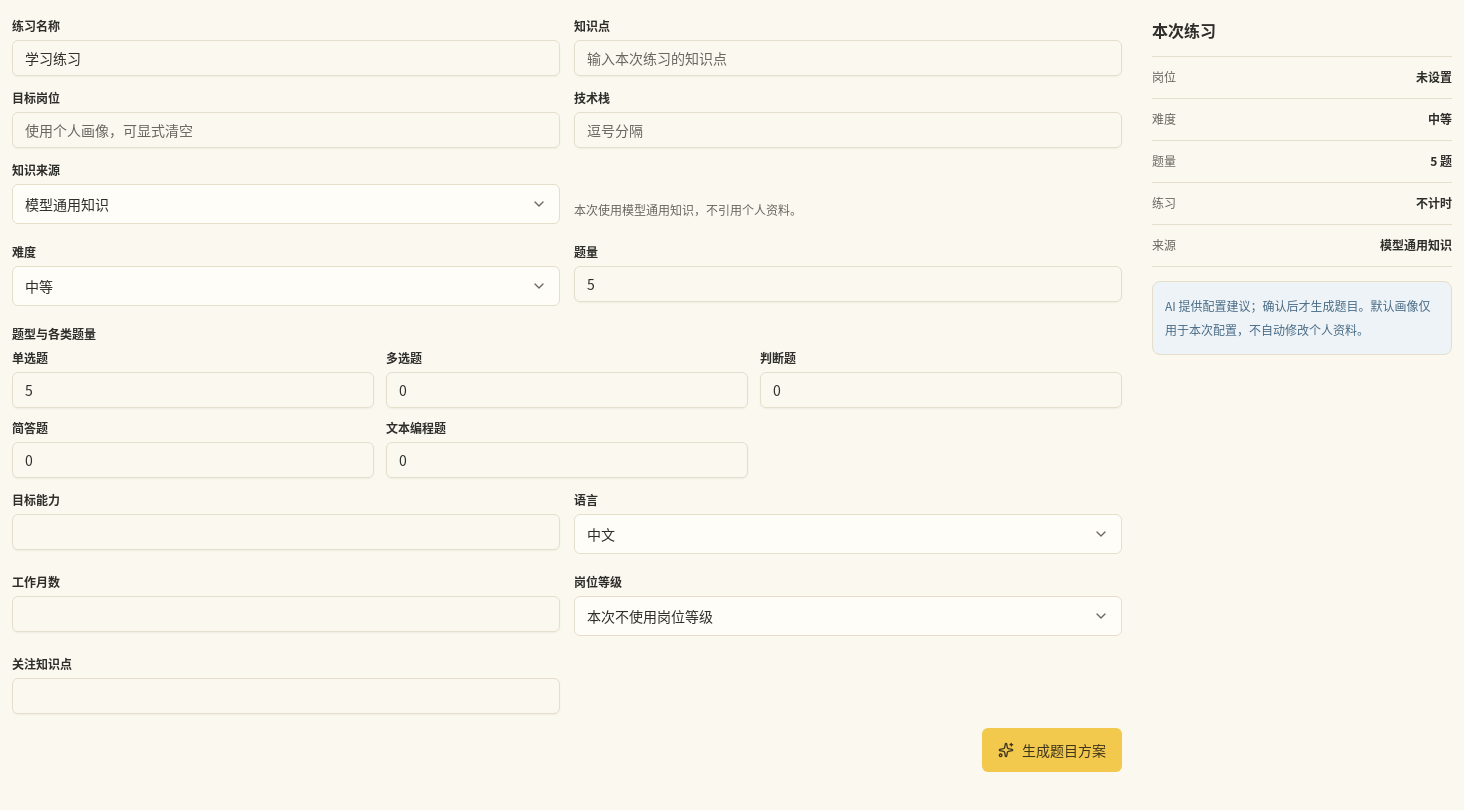
Test case: 不把题型数量不匹配的配置交给模型
Replace the text in the number field named "题量" with "4" at (848, 284), box x1=574 y1=266 x2=1122 y2=302
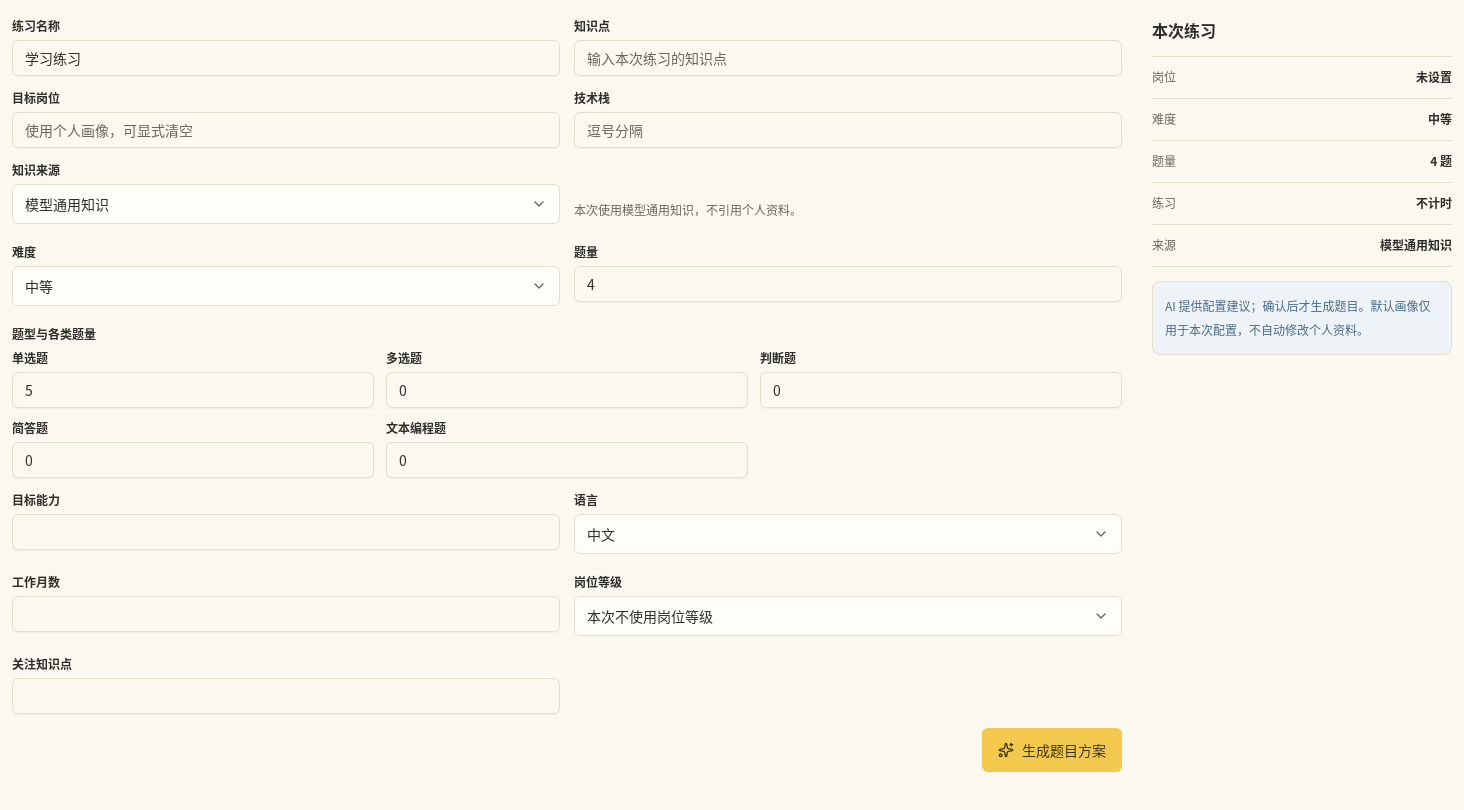
Click the button "生成题目方案".
click(1052, 750)  # box x1=982 y1=728 x2=1122 y2=772
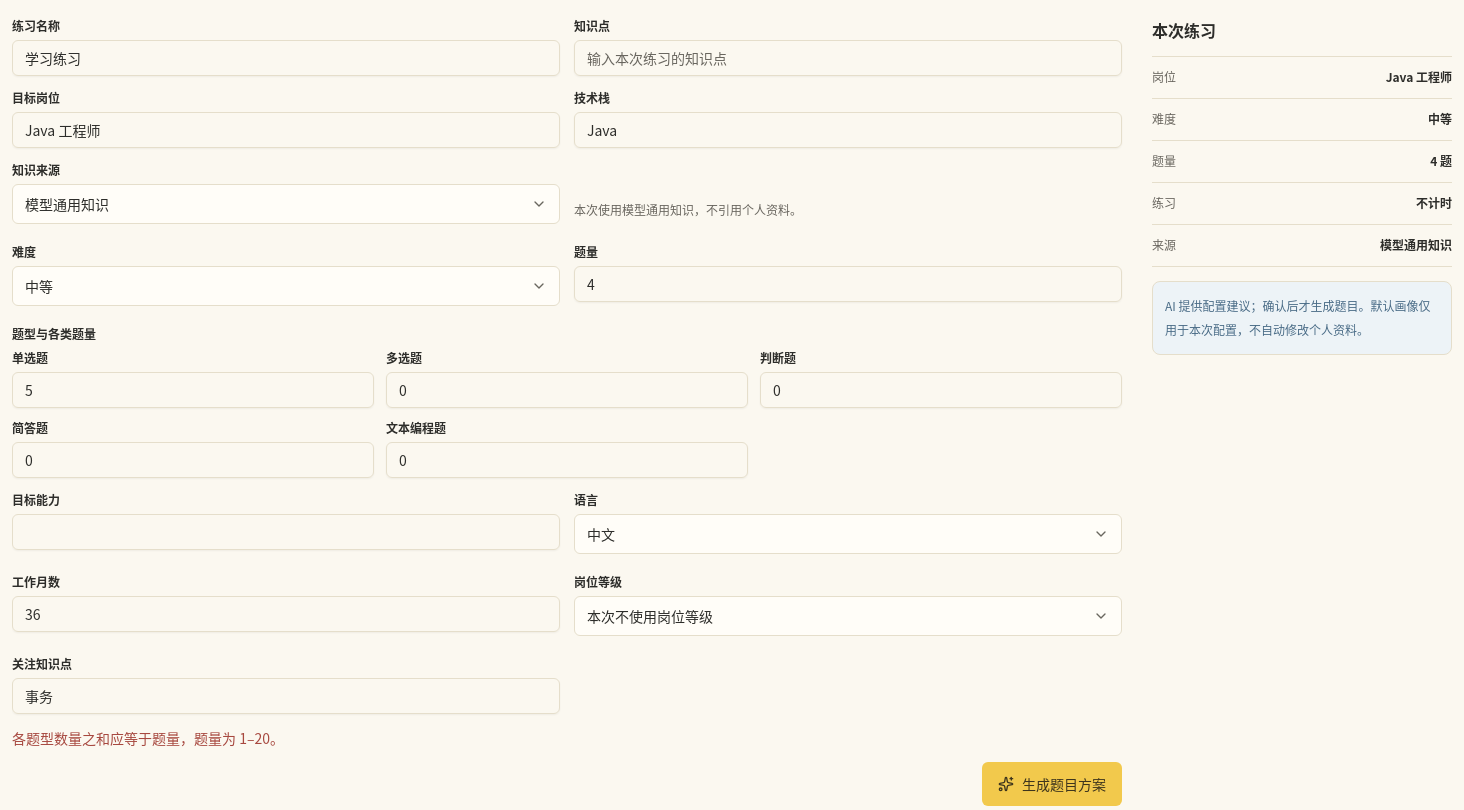
Now the message shows "各题型数量之和应等于题量", box x1=12 y1=728 x2=284 y2=748
